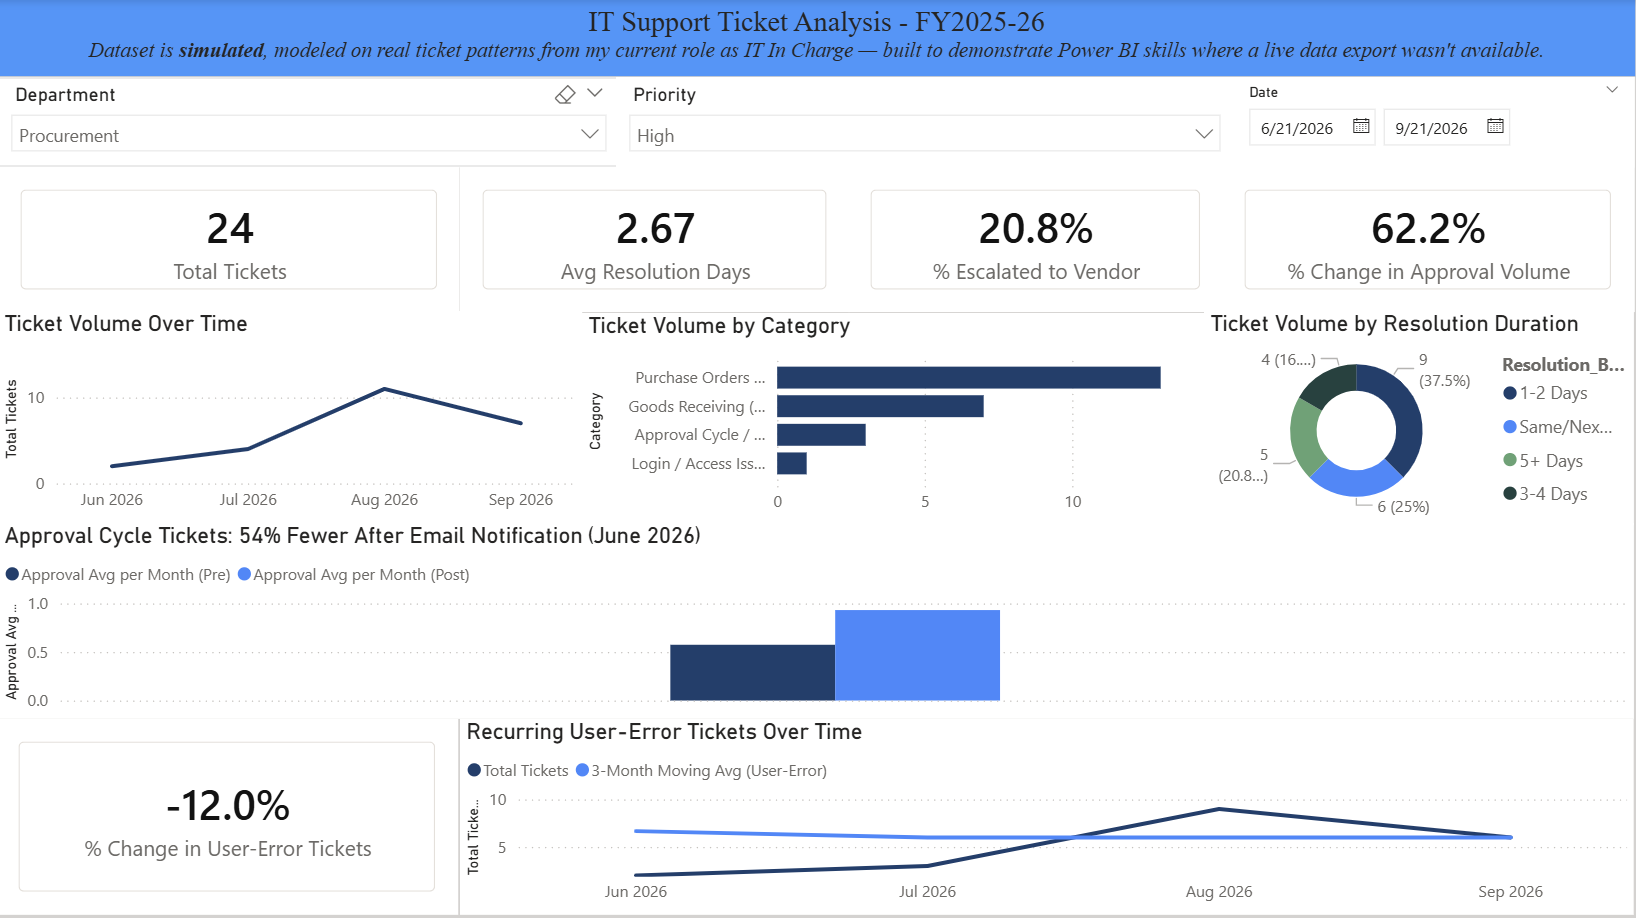

The page's visual inventory and layout, read from the dashboard file:
{"tool":"powerbi","page":{"name":"Page 1","canvas":[1280,720],"ordinal":0},"visuals":[{"type":"cardVisual","fields":{"Data":["Tickets.Total Tickets"]},"box":[0,68.2,357.9,121.3],"z":0},{"type":"cardVisual","fields":{"Data":["Tickets.Avg Resolution Days"]},"box":[357.9,69.8,307.9,119.8],"z":1000},{"type":"cardVisual","fields":{"Data":["Tickets.% Escalated to Vendor"]},"box":[667.3,68.2,307.9,121.3],"z":2000},{"type":"cardVisual","fields":{"Data":["Tickets.% Change in Approval Volume"]},"box":[972.1,68.2,307.9,121.3],"z":3000},{"type":"lineChart","fields":{"Category":["DateTable.MonthYear"],"Y":["Tickets.Total Tickets"]},"box":[0,206.3,667.3,168.3],"z":4000},{"type":"clusteredBarChart","fields":{"Category":["Tickets.Category"],"Y":["Tickets.Total Tickets"]},"box":[665.8,206.3,612.7,169.9],"z":5000},{"type":"clusteredColumnChart","title":"Approval Cycle Tickets: Before vs After Email Notification (June 2026)","fields":{"Y":["Tickets.Approval Avg per Month (Pre)","Tickets.Approval Avg per Month (Post)"]},"box":[357.9,374.6,922.1,159.2],"z":6000},{"type":"lineChart","title":"Recurring User-Error Tickets Over Time","fields":{"Category":["DateTable.MonthYear"],"Y":["Tickets.Total Tickets","Tickets.3-Month Moving Avg (User-Error)"]},"box":[0,542.9,640,177.4],"z":7000},{"type":"donutChart","fields":{"Category":["Tickets.Resolution_Bucket"],"Y":["Tickets.Total Tickets"]},"box":[640,543,640,177],"z":8000},{"type":"cardVisual","fields":{"Data":["Tickets.% Change in User-Error Tickets"]},"box":[0,374.6,357.9,159.2],"z":9000},{"type":"slicer","fields":{"Values":["Tickets.Department"]},"box":[0,0,492.9,68.2],"z":10000},{"type":"slicer","fields":{"Values":["Tickets.Priority"]},"box":[492.9,1.5,468.6,68.2],"z":11000},{"type":"slicer","fields":{"Values":["DateTable.Date"]},"box":[960,0,321.5,68.2],"z":12000}]}

Visuals, with their boxes in screenshot pixels (x1, y1, x2, y2), scaled from the page's 1280x720 canvas onto the 1636x918 screenshot:
cardVisual - Tickets.Total Tickets: 0 87 457 242
cardVisual - Tickets.Avg Resolution Days: 457 89 851 242
cardVisual - Tickets.% Escalated to Vendor: 853 87 1246 242
cardVisual - Tickets.% Change in Approval Volume: 1242 87 1635 242
lineChart - DateTable.MonthYear x Tickets.Total Tickets: 0 263 853 478
clusteredBarChart - Tickets.Category x Tickets.Total Tickets: 851 263 1634 480
"Approval Cycle Tickets: Before vs After Email Notification (June 2026)" clusteredColumnChart: 457 478 1635 681
"Recurring User-Error Tickets Over Time" lineChart: 0 692 818 917
donutChart - Tickets.Resolution_Bucket x Tickets.Total Tickets: 818 692 1635 917
cardVisual - Tickets.% Change in User-Error Tickets: 0 478 457 681
slicer - Tickets.Department: 0 0 630 87
slicer - Tickets.Priority: 630 2 1229 89
slicer - DateTable.Date: 1227 0 1635 87
